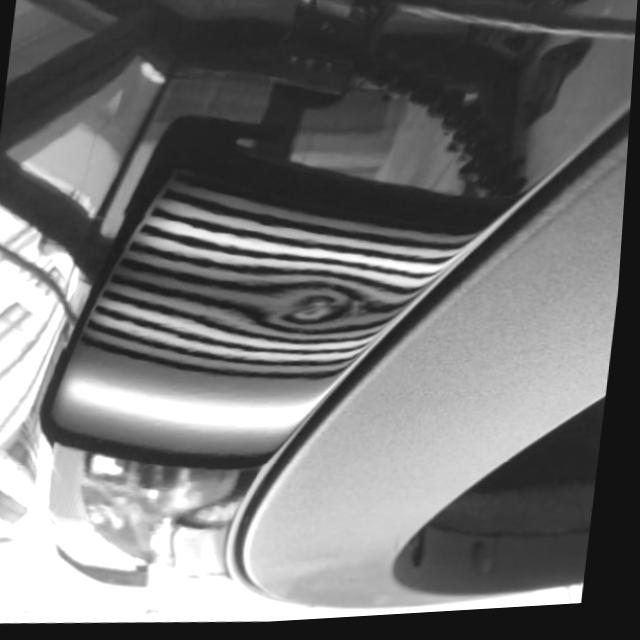PDR-Dent: (253, 262, 374, 350)
